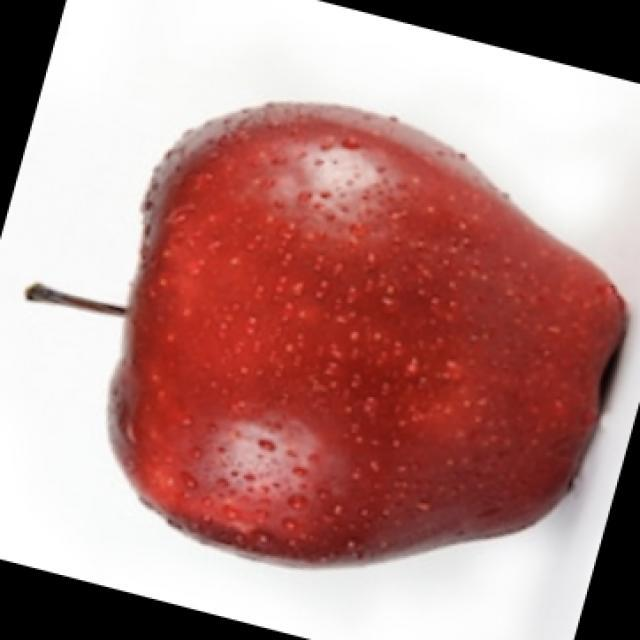Fresh Apple: (113, 103, 610, 592)
